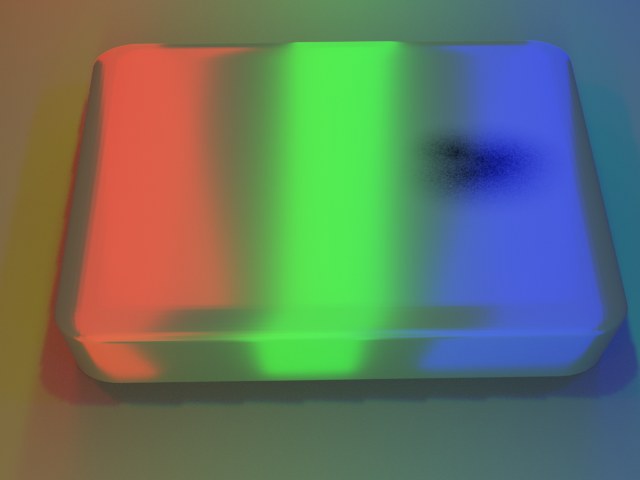stain: (380, 90, 617, 223)
